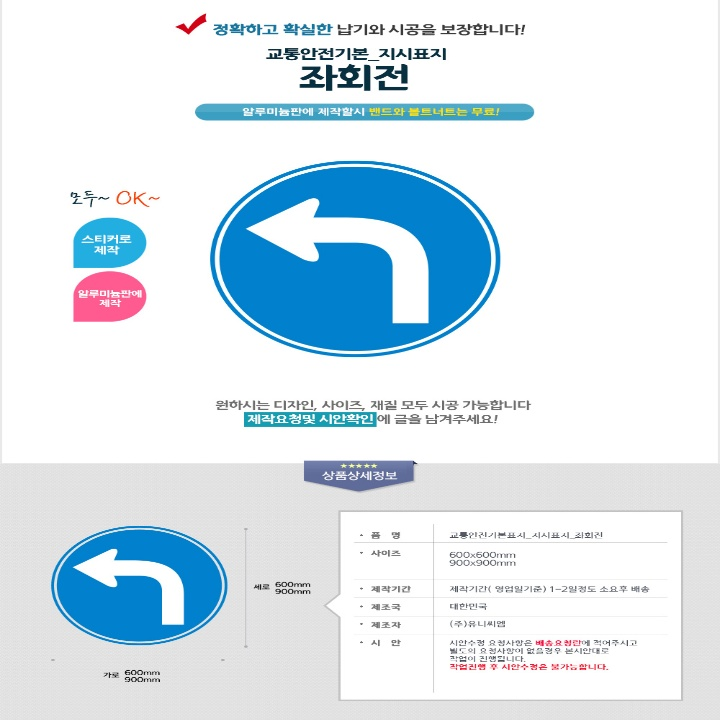left: (240, 187, 441, 330), (63, 544, 195, 630)
